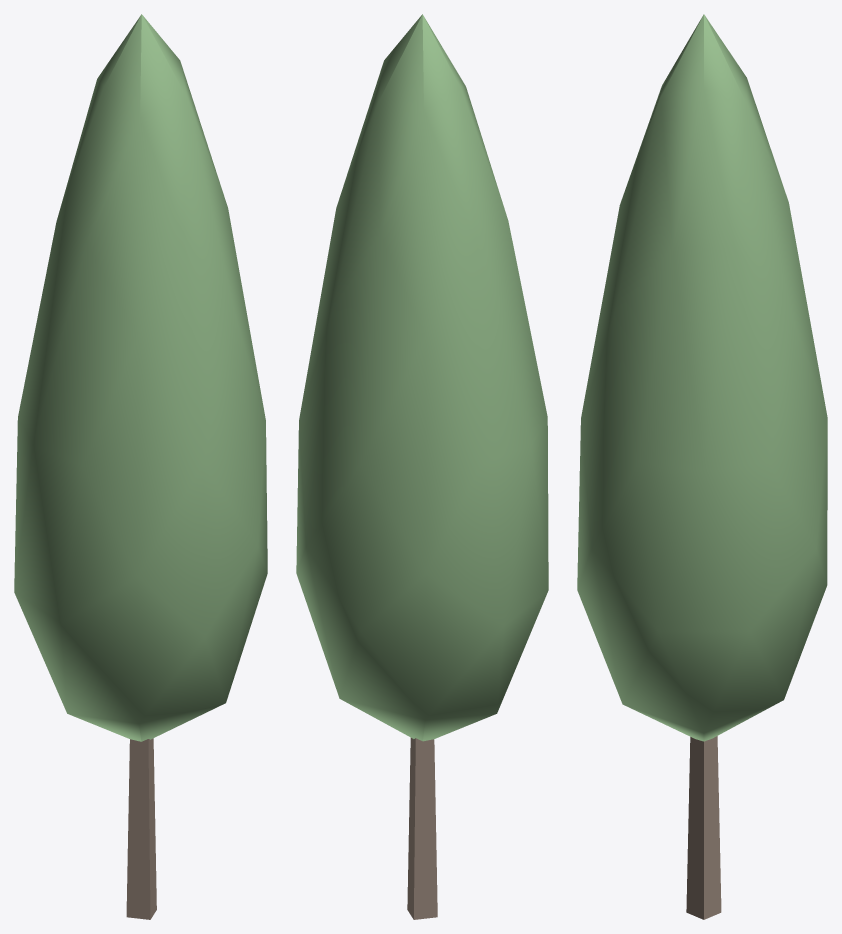
Rendered from tree-conifer-d-far.glb.
The picture shows the model from 3 angles, left to right: view 1: azimuth 30°, elevation 25°; view 2: azimuth 150°, elevation 25°; view 3: azimuth 270°, elevation 25°; orthographic projection.
Visible parts, largest first — view 1: tree-conifer-d-far; view 2: tree-conifer-d-far; view 3: tree-conifer-d-far.
Boxes of the visible parts, bbox=[...] form: tree-conifer-d-far: bbox=[14, 14, 267, 919]; tree-conifer-d-far: bbox=[296, 14, 548, 919]; tree-conifer-d-far: bbox=[577, 14, 827, 919].
Size of the model in its own units: 0.2513 by 1 by 0.2527.
